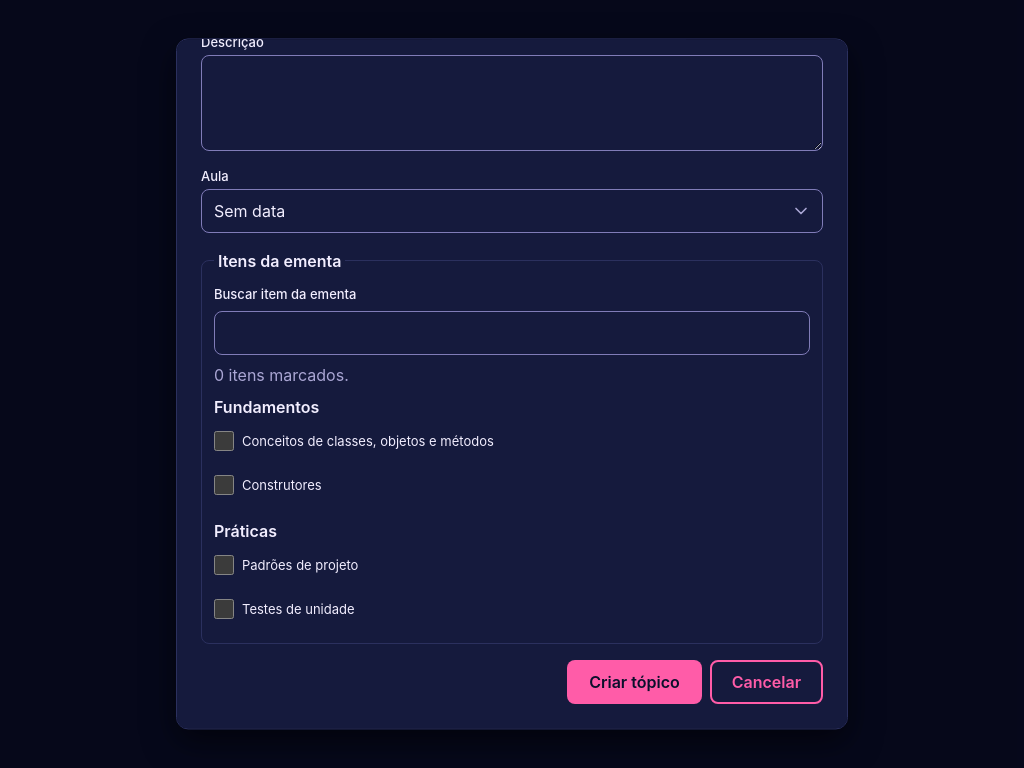
004/US5 TopicFormDialog — formulário de tópico › título vazio: erro ligado ao campo, nada enviado
The width and height of the screenshot is (1024, 768).
(page scrolled)
Click the button "Criar tópico". click: click(635, 682)
box: [567,660,702,704]
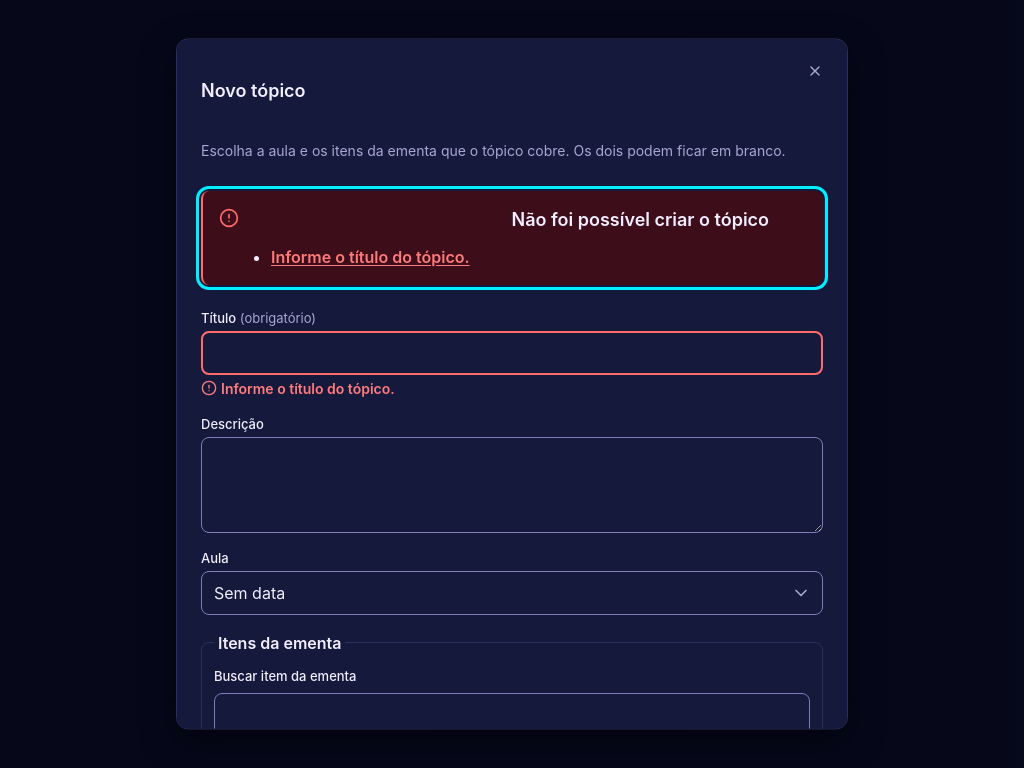
Expected: the text "Informe o título do tópico." below "(obrigatório)" is shown, [221,380,395,397]
